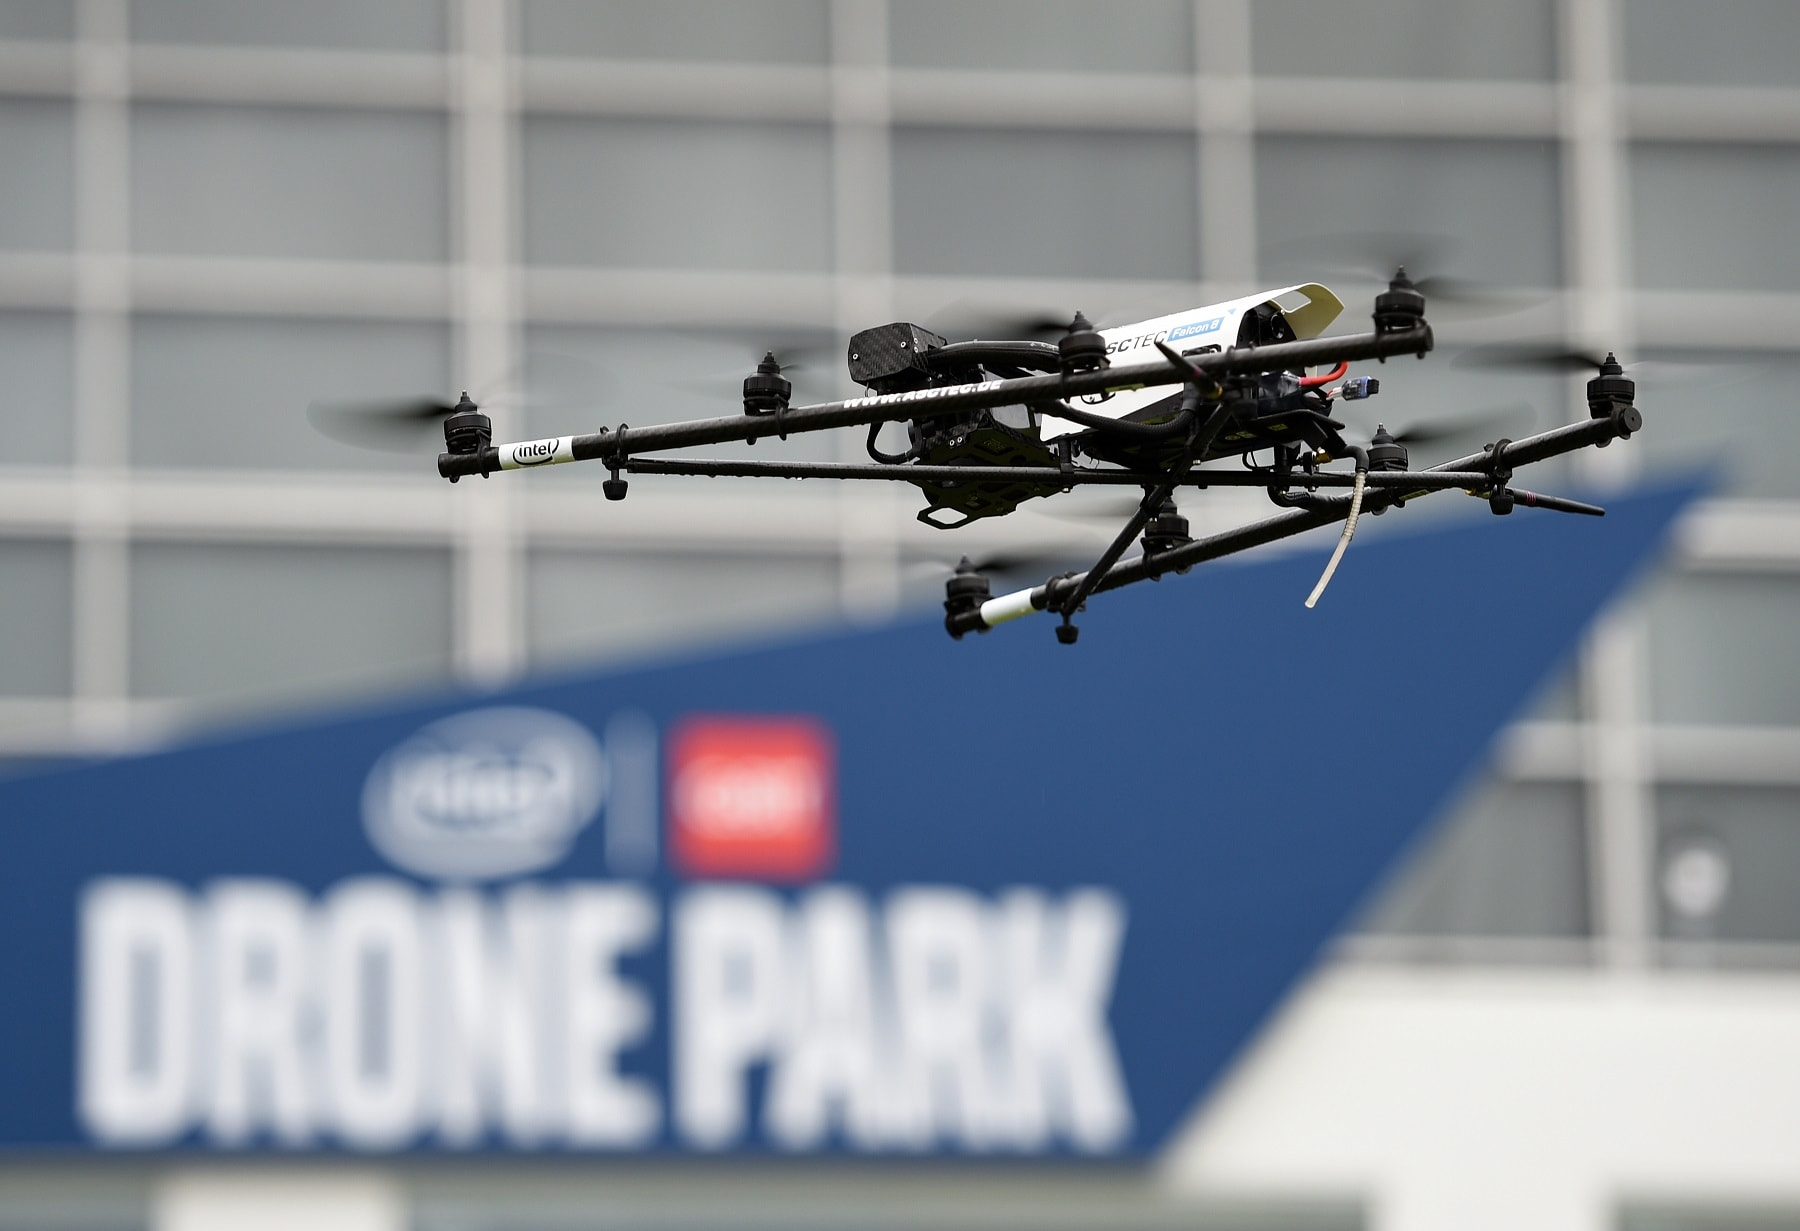drone: (297, 211, 1755, 661)
